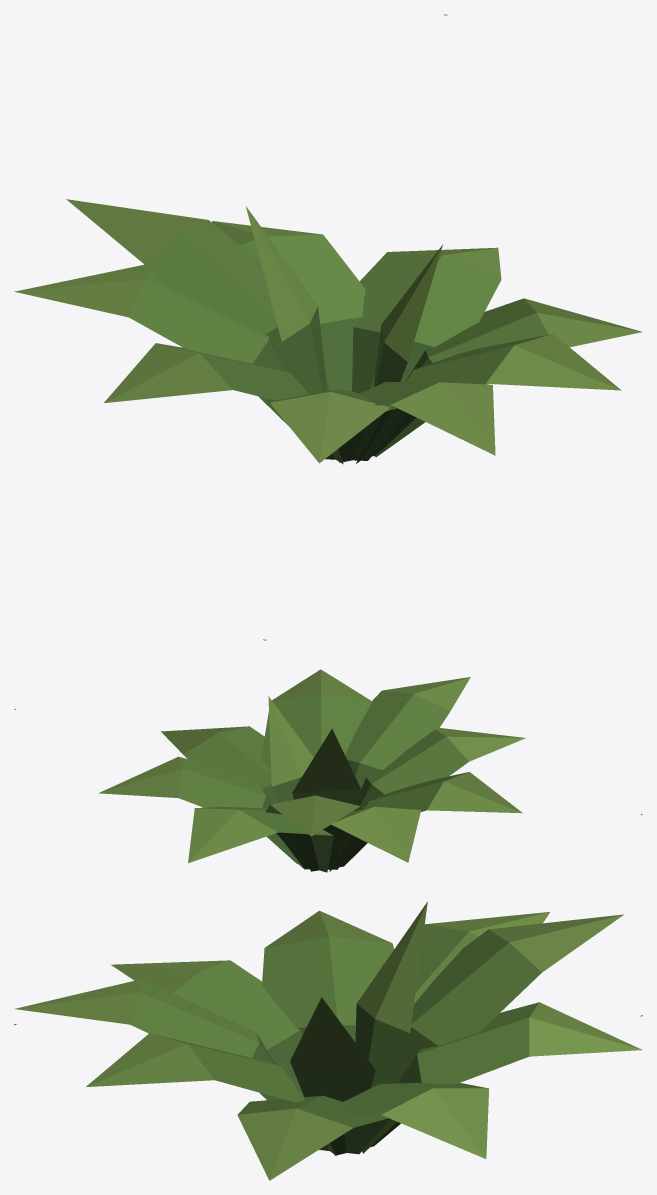
File: Fern1_lite_leaf.glb
3 renders of one model, top to bottom at view 1: azimuth 30°, elevation 25°; view 2: azimuth 150°, elevation 25°; view 3: azimuth 270°, elevation 25°, orthographic. The views are drawn at different scales.
Visible parts, largest first — view 1: Fern1_lite_leaf; view 2: Fern1_lite_leaf; view 3: Fern1_lite_leaf.
Part boxes in pixels (box(x1,y1,x2,y2)): Fern1_lite_leaf: box(14, 14, 641, 640); Fern1_lite_leaf: box(14, 669, 642, 872); Fern1_lite_leaf: box(14, 901, 642, 1180).
Bounding box in the file's own units: 3.14 × 1.51 × 3.52.
